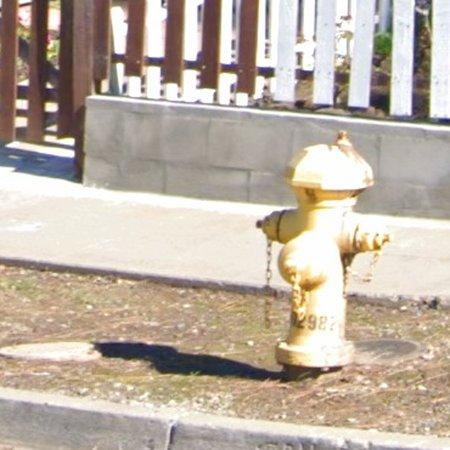a fire hydrant: (257, 133, 390, 369)
